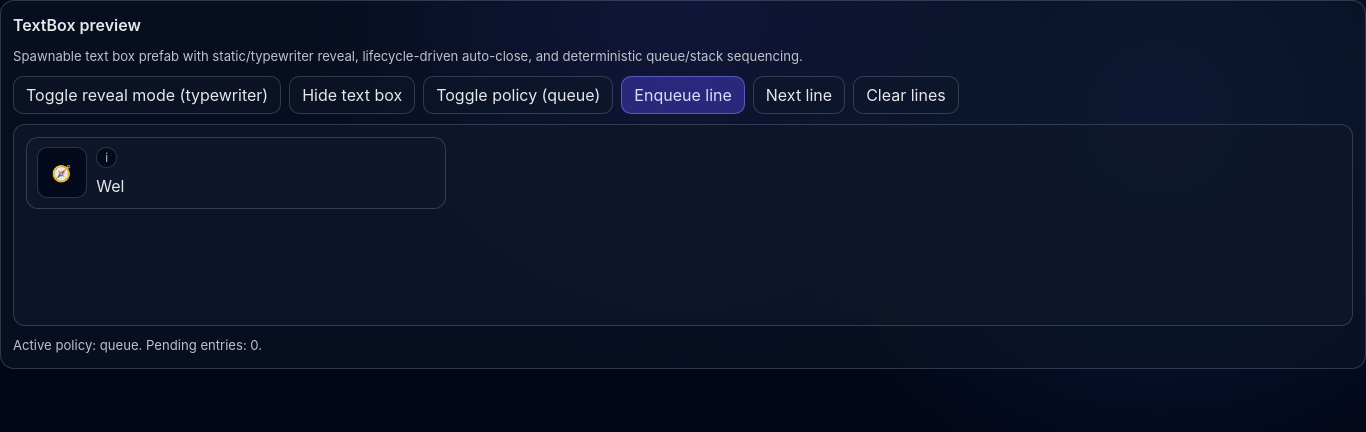
Test: TextBoxExample › enqueues lines and switches queue policy controls
Expected: the text "Active policy: queue. Pending entries: 0." is shown, [13,337,262,353]
Click the button "Enqueue line". click: (683, 95)
box: [621,76,745,114]
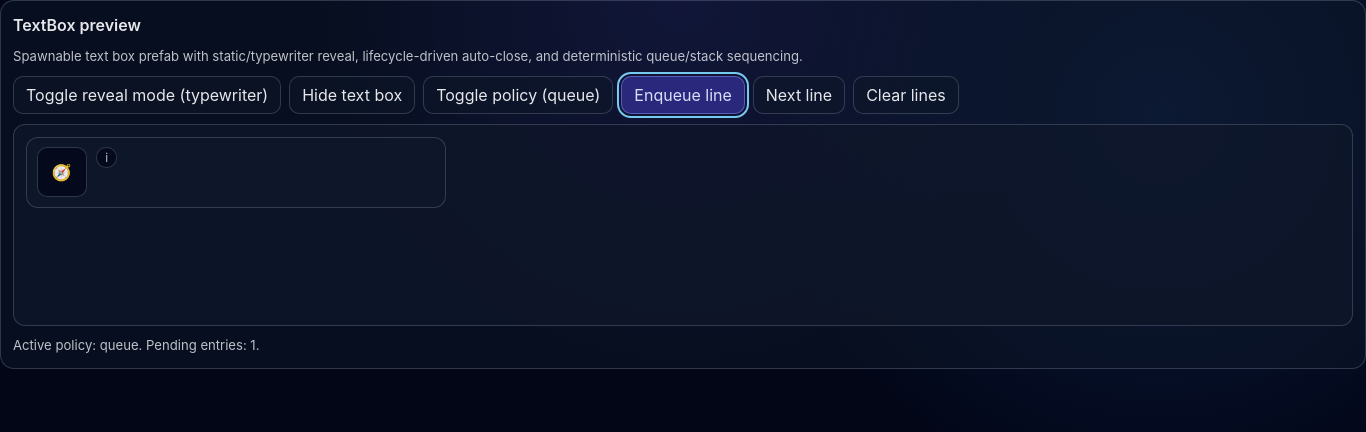
Now the text "Active policy: queue. Pending entries: 1." is shown, box [13,337,260,353]
Click the button "Next line". click: (799, 95)
box: [753,76,845,114]
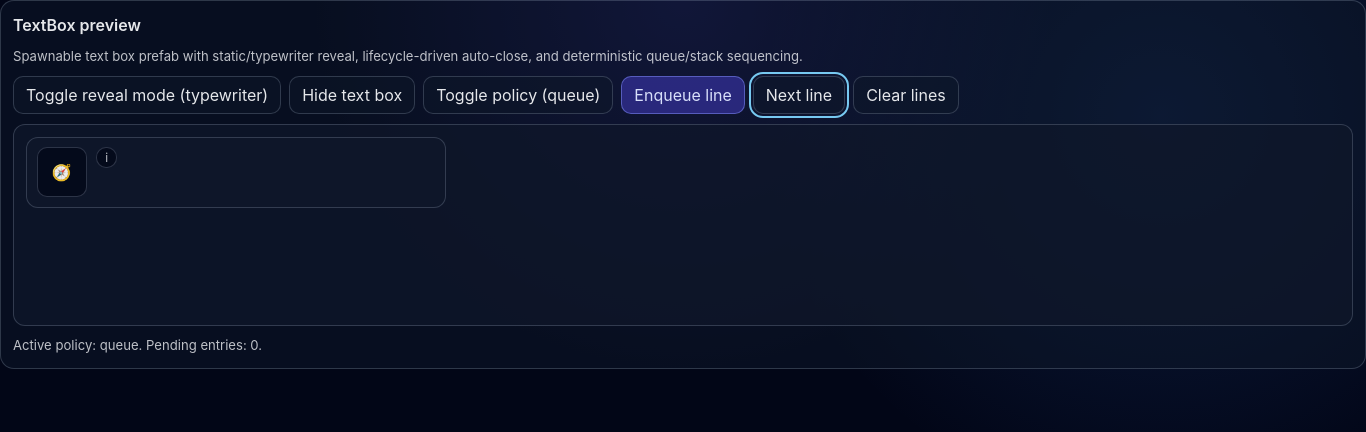
Now the text "Active policy: queue. Pending entries: 0." is shown, box [13,337,262,353]
Click the button "Toggle policy (queue)". click: (518, 95)
box: [423,76,613,114]
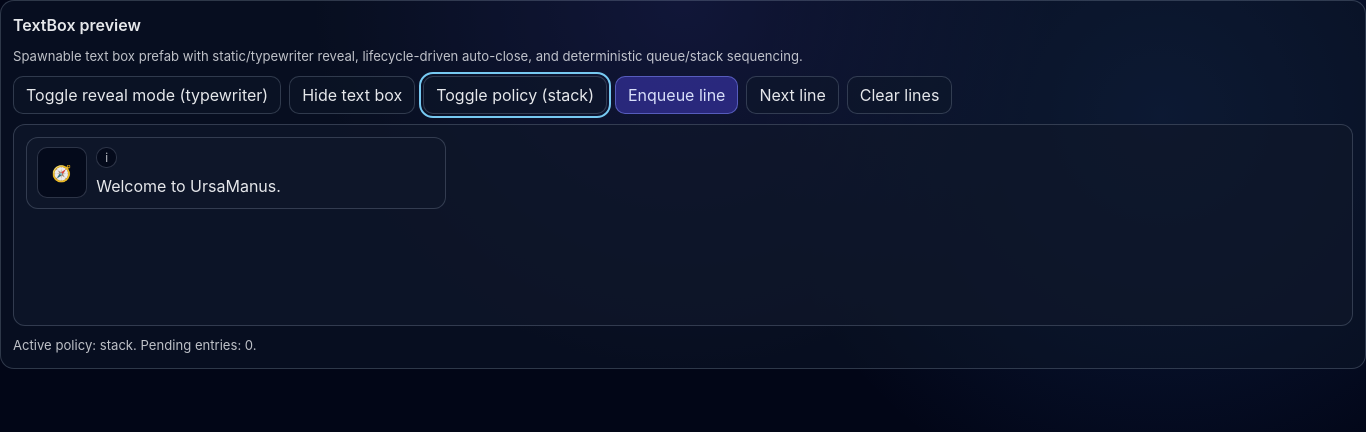
Now the button "Toggle policy (stack)" is shown, box [423,76,607,114]
